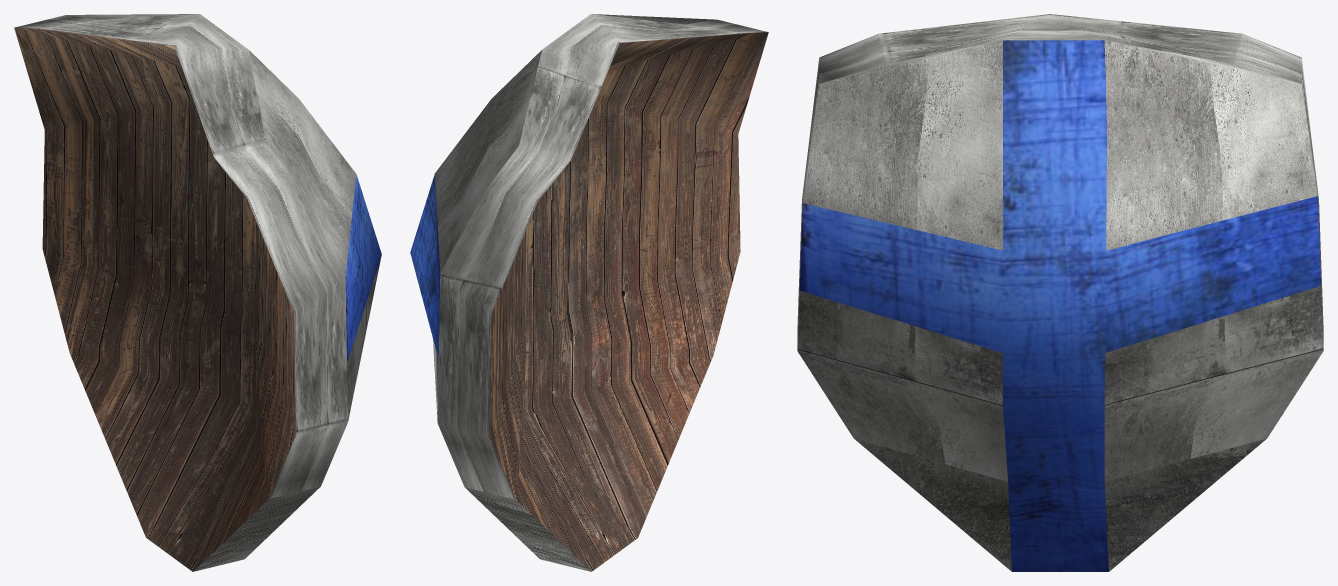
The model's file is shield.fbx.
3 views of the same model, side by side, from view 1: azimuth 30°, elevation 25°; view 2: azimuth 150°, elevation 25°; view 3: azimuth 270°, elevation 25° (orthographic). The views are drawn at different scales.
Visible parts, largest first — view 1: pCube1; view 2: pCube1; view 3: pCube1.
Boxes of the visible parts, box(x1,y1,x2,y2) form: pCube1: box(14, 14, 381, 571); pCube1: box(410, 14, 768, 571); pCube1: box(797, 14, 1323, 571).
Size of the model in its own units: 1.52 by 3.26 by 2.93.
